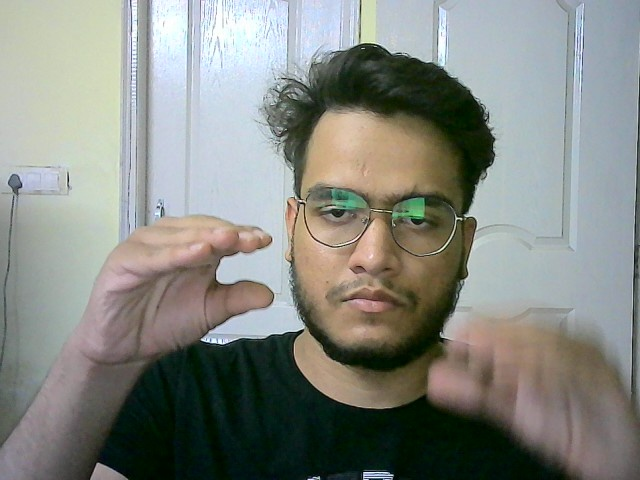No: (79, 207, 276, 383)
